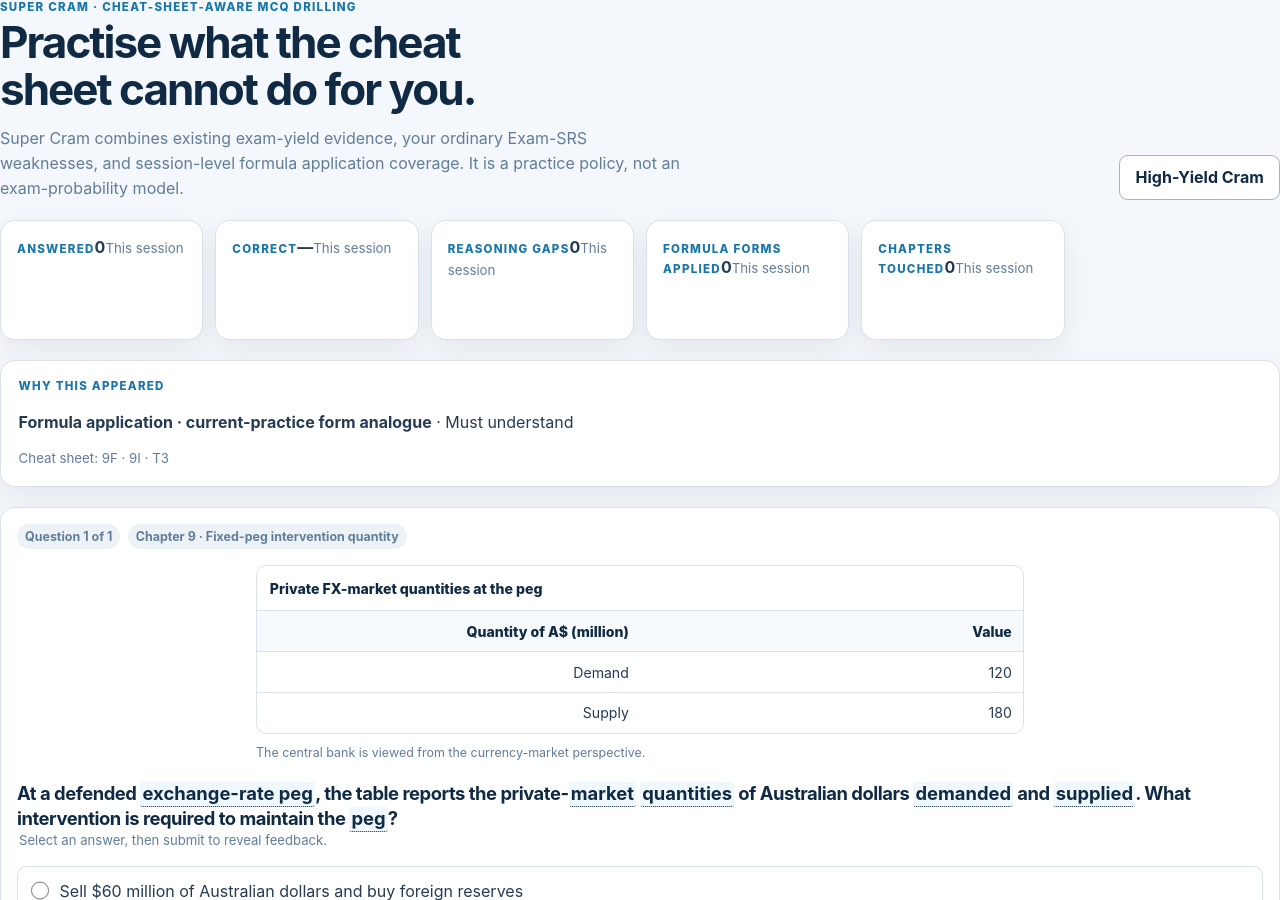
it: Super Cram and Formula Application practice surfaces › keeps an active MCQ atomic across a due-fallback clock transition
Click the radio button: (40,891) [31,882,49,899]
Wait 30000 ms
(page scrolled)
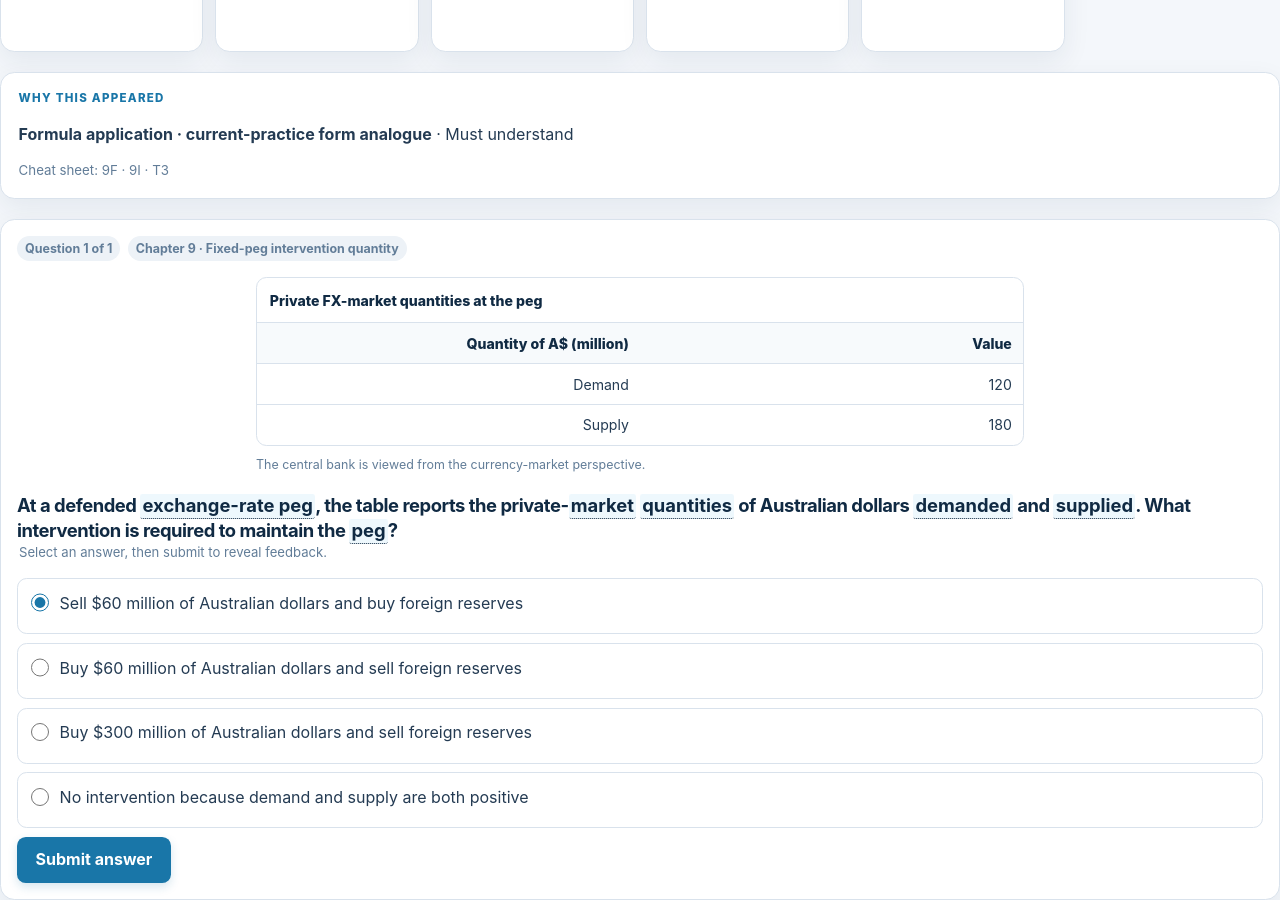
Expected: the text "Due review · canonical card" is not shown
Now the 1st radio button is checked, box [31,594,49,612]
Click the button "Submit answer": (94,860) [17,837,171,883]
(page scrolled)
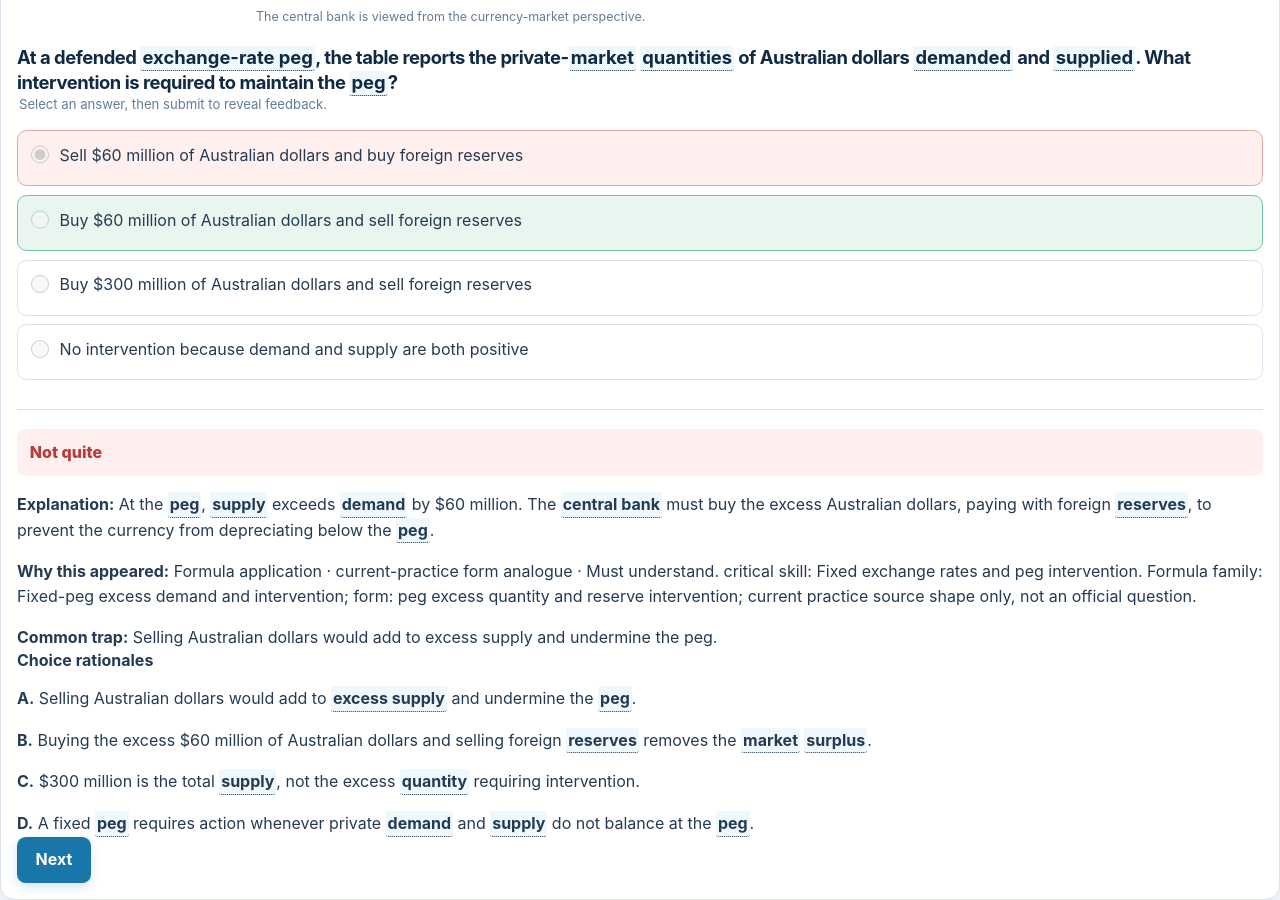
Click the button "Next": (54,860) [17,837,91,883]
(page scrolled)
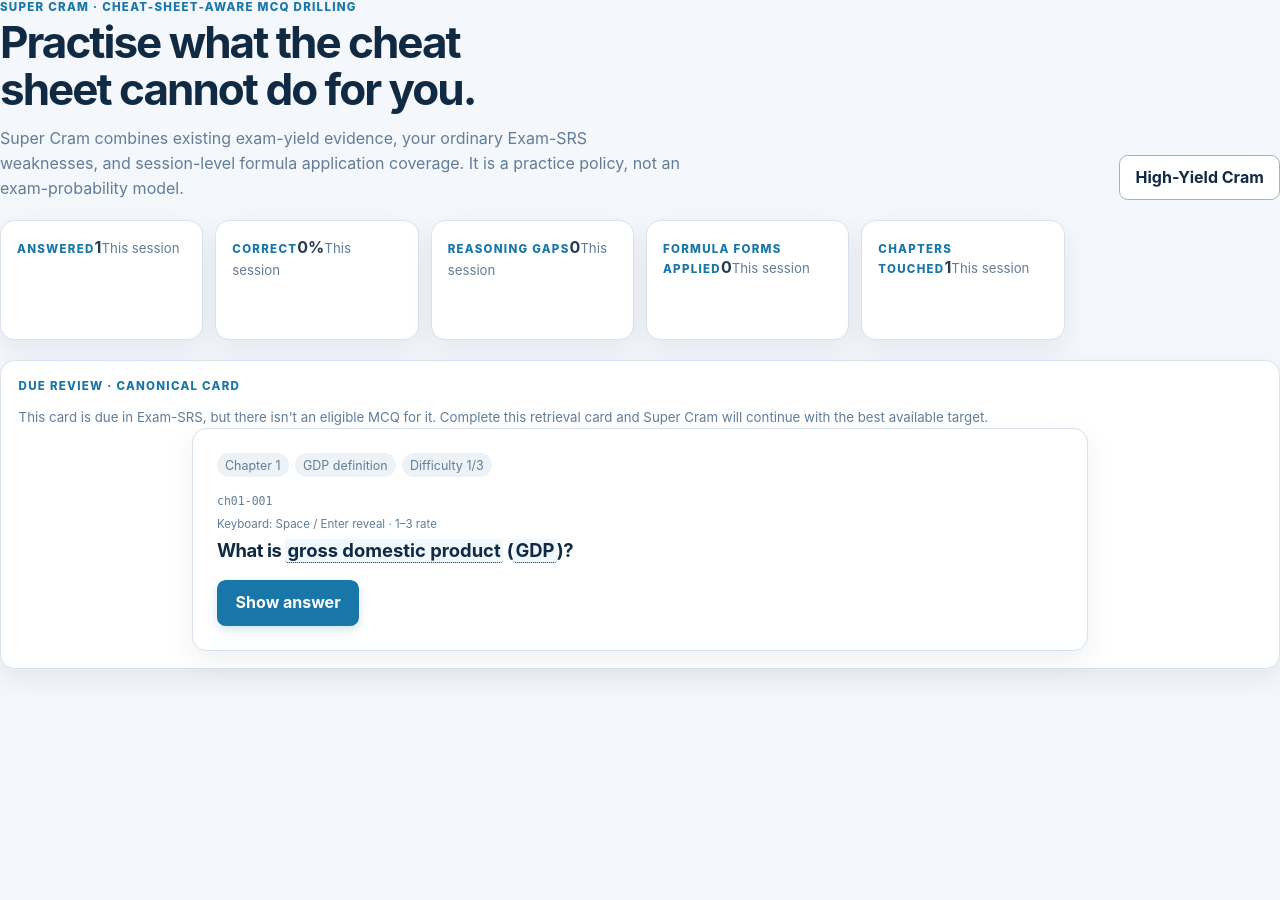
Now the text "Due review · canonical card" is shown, box [19,379,240,393]
Now the text "ch01-001" is shown, box [217,494,272,508]
